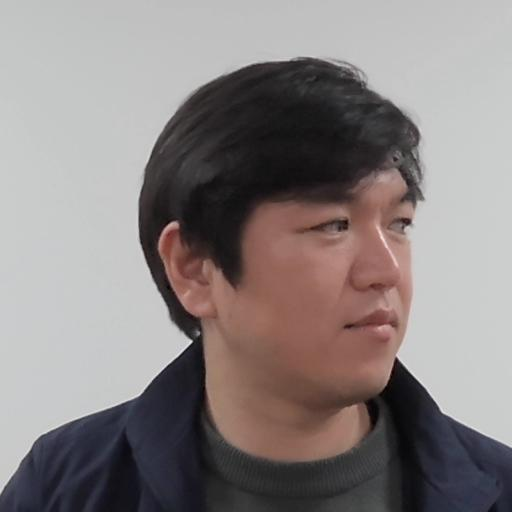no_glasses: (140, 57, 435, 422)
